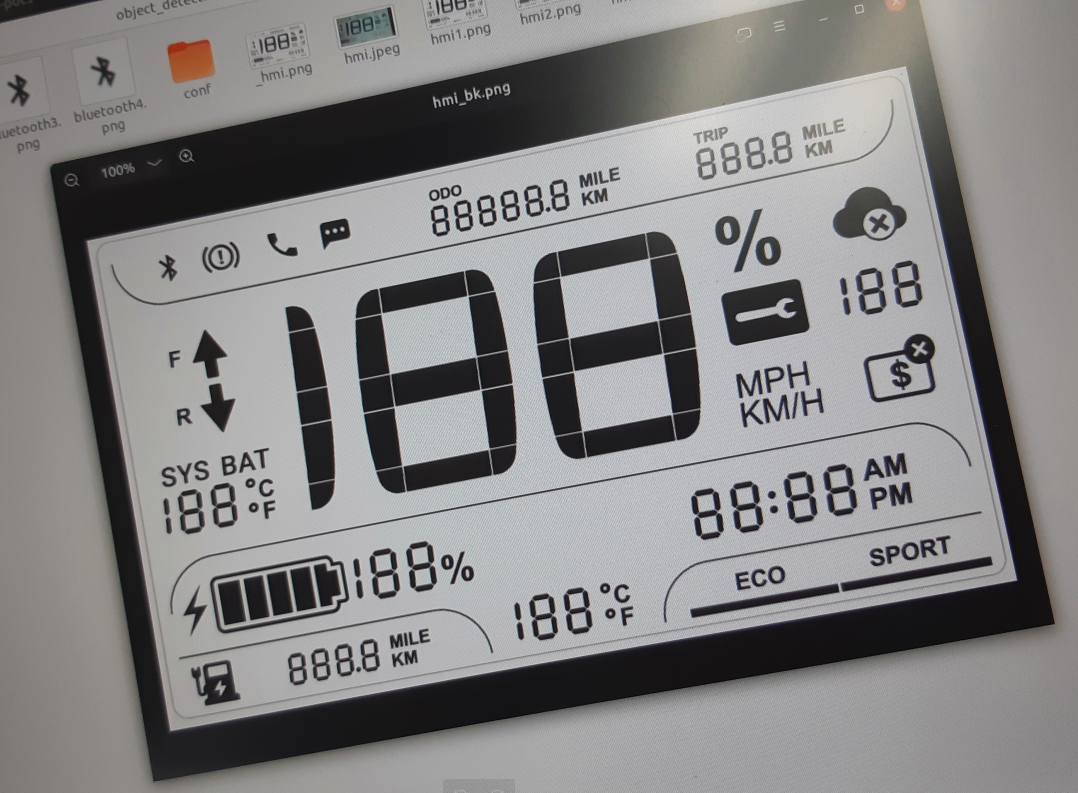bluetooth_on: (152, 250, 190, 289)
braking_on: (197, 236, 246, 278)
calling_on: (262, 228, 302, 262)
connection_lost: (827, 182, 911, 249)
error_code: (715, 276, 810, 347)
low_battery: (184, 658, 245, 708)
sms_on: (316, 215, 358, 256)
vin_id: (859, 330, 943, 403)
